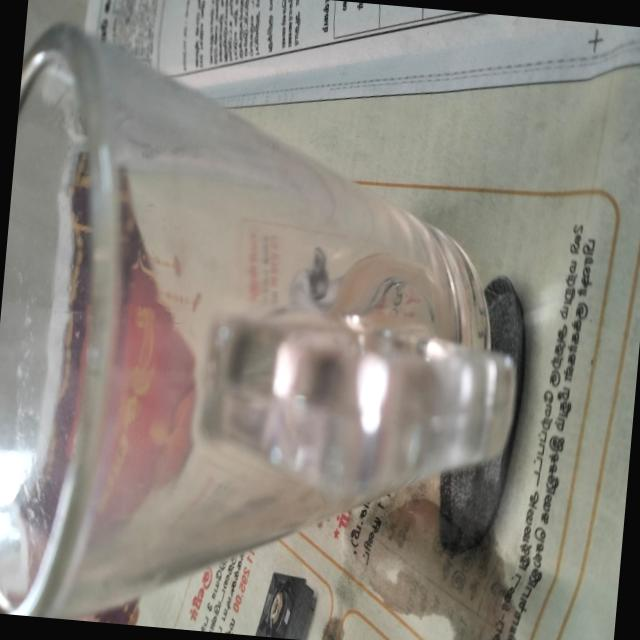glass-VX4N: (0, 16, 538, 640)
